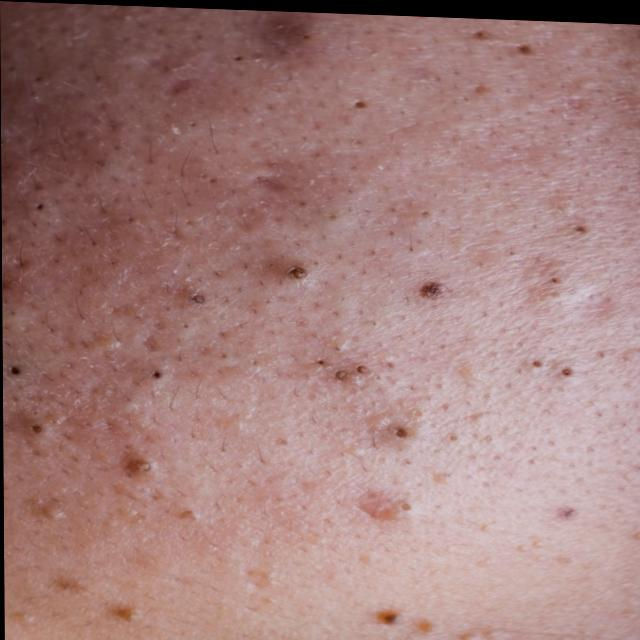dark spot: (413, 269, 453, 301), (282, 252, 315, 283), (510, 31, 542, 58), (371, 602, 402, 625), (385, 420, 422, 439), (3, 357, 32, 380), (326, 359, 356, 378), (188, 287, 214, 306), (139, 363, 166, 380), (552, 356, 576, 374)
